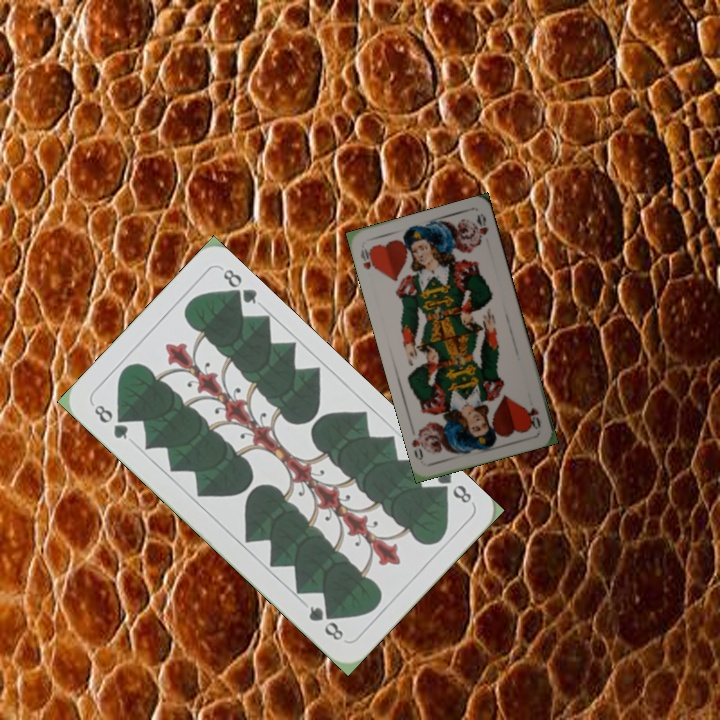G8: (429, 464, 475, 506), (90, 400, 131, 443)
HO: (356, 244, 380, 274), (525, 404, 543, 432)
